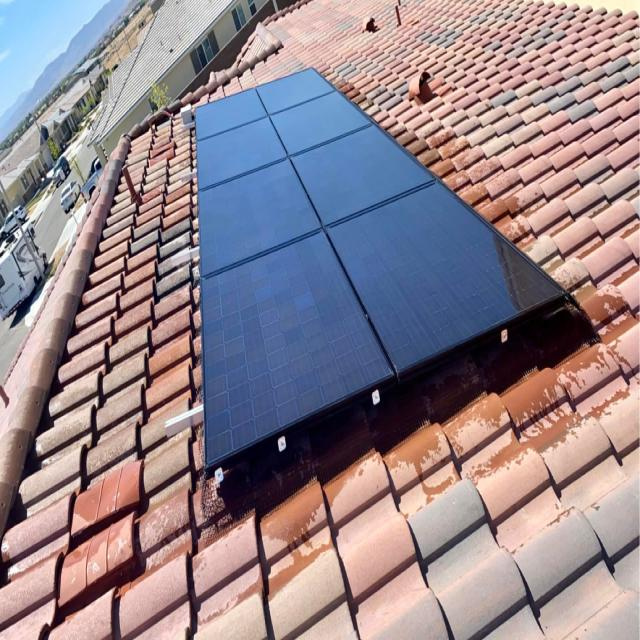clean-solar-panel: (195, 68, 565, 471)
